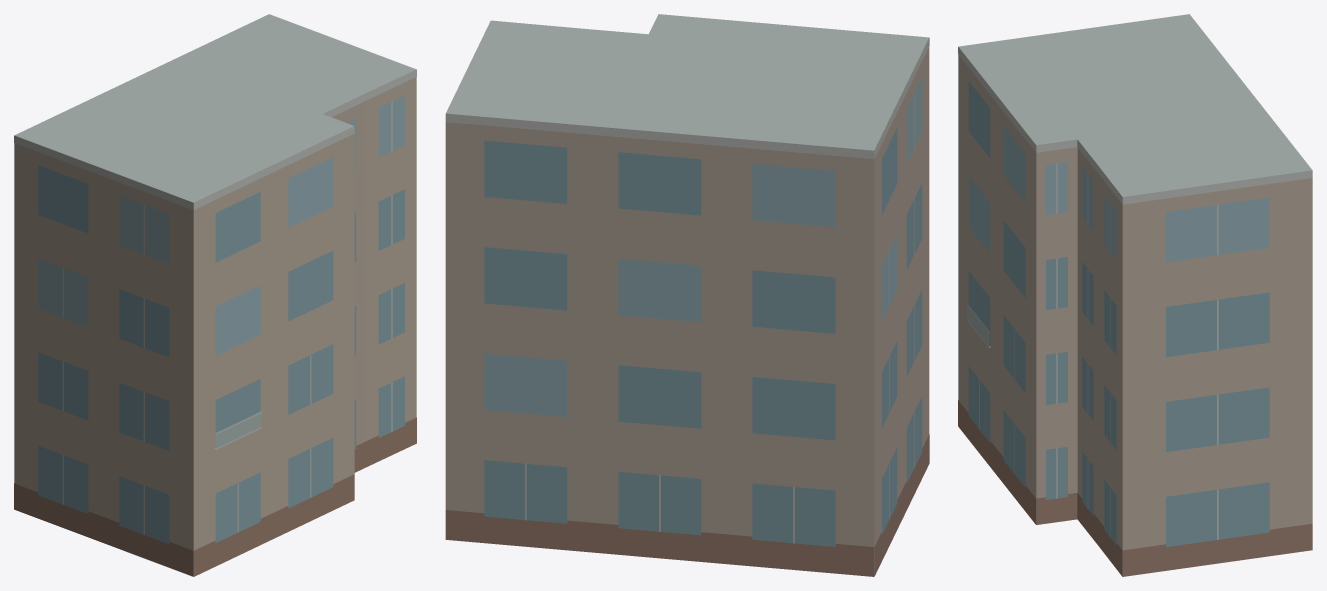
File: residential-32f3d2c0-c946-49ed-b782-ab3d5118d47d.glb
3 views of the same model, side by side, from view 1: azimuth 30°, elevation 25°; view 2: azimuth 150°, elevation 25°; view 3: azimuth 270°, elevation 25° (orthographic). The views are drawn at different scales.
Visible parts, largest first — view 1: residential-32f3d2c0-c946-49ed-b782-ab3d5118d47d.tmp; view 2: residential-32f3d2c0-c946-49ed-b782-ab3d5118d47d.tmp; view 3: residential-32f3d2c0-c946-49ed-b782-ab3d5118d47d.tmp.
Part boxes in pixels (x1,y1,x2,y2): residential-32f3d2c0-c946-49ed-b782-ab3d5118d47d.tmp: (14, 14, 416, 576); residential-32f3d2c0-c946-49ed-b782-ab3d5118d47d.tmp: (445, 14, 929, 576); residential-32f3d2c0-c946-49ed-b782-ab3d5118d47d.tmp: (958, 14, 1312, 576).
Size of the model in its own units: 12.62 by 12.2 by 10.33.
